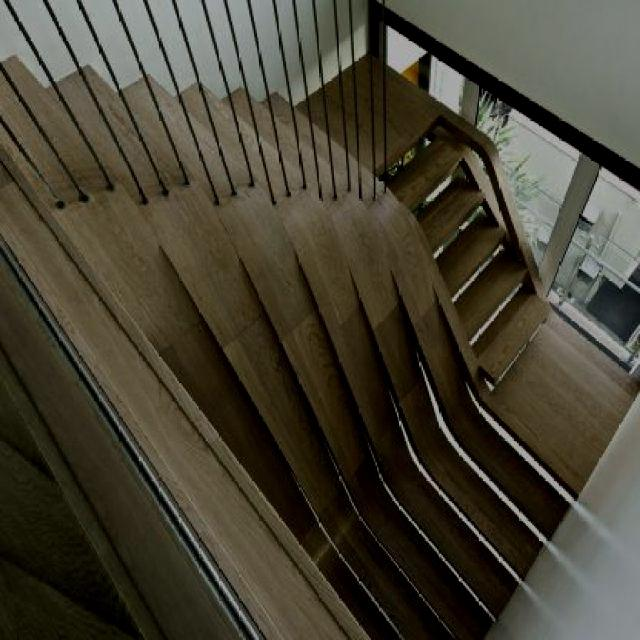stair: (367, 13, 613, 404), (1, 31, 348, 284)
